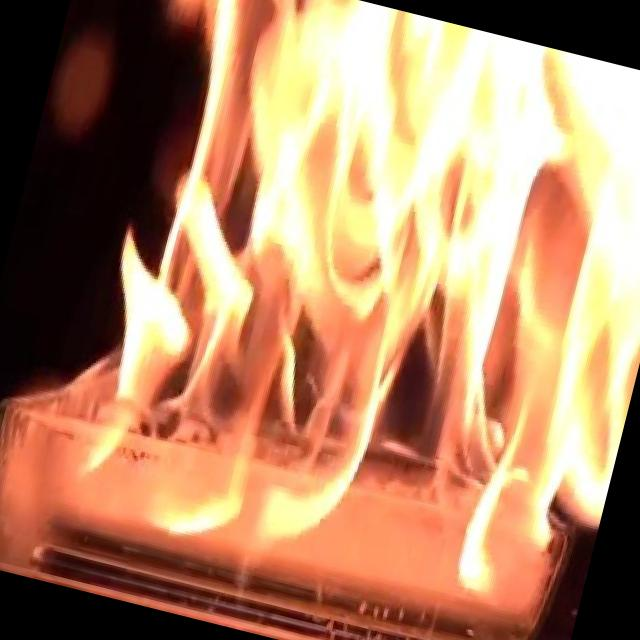Fire: (39, 0, 640, 604)
